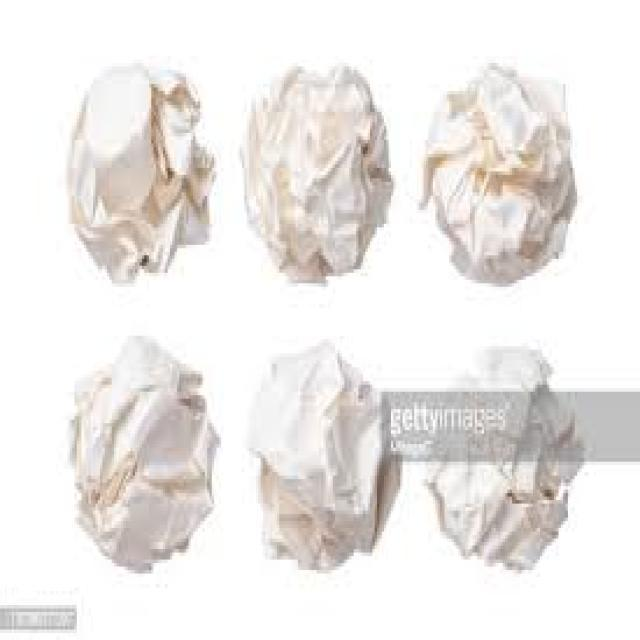Paper: (67, 336, 221, 577), (421, 56, 579, 290), (247, 343, 403, 574), (242, 63, 396, 287), (63, 63, 219, 283), (435, 346, 582, 574)
